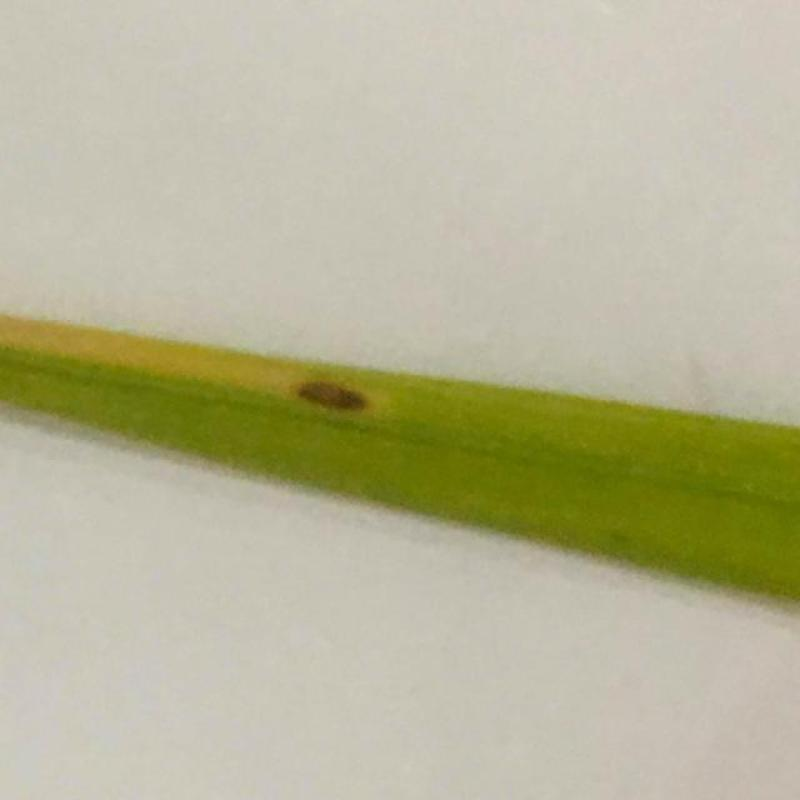Leaf_Blast: (274, 348, 401, 432)
